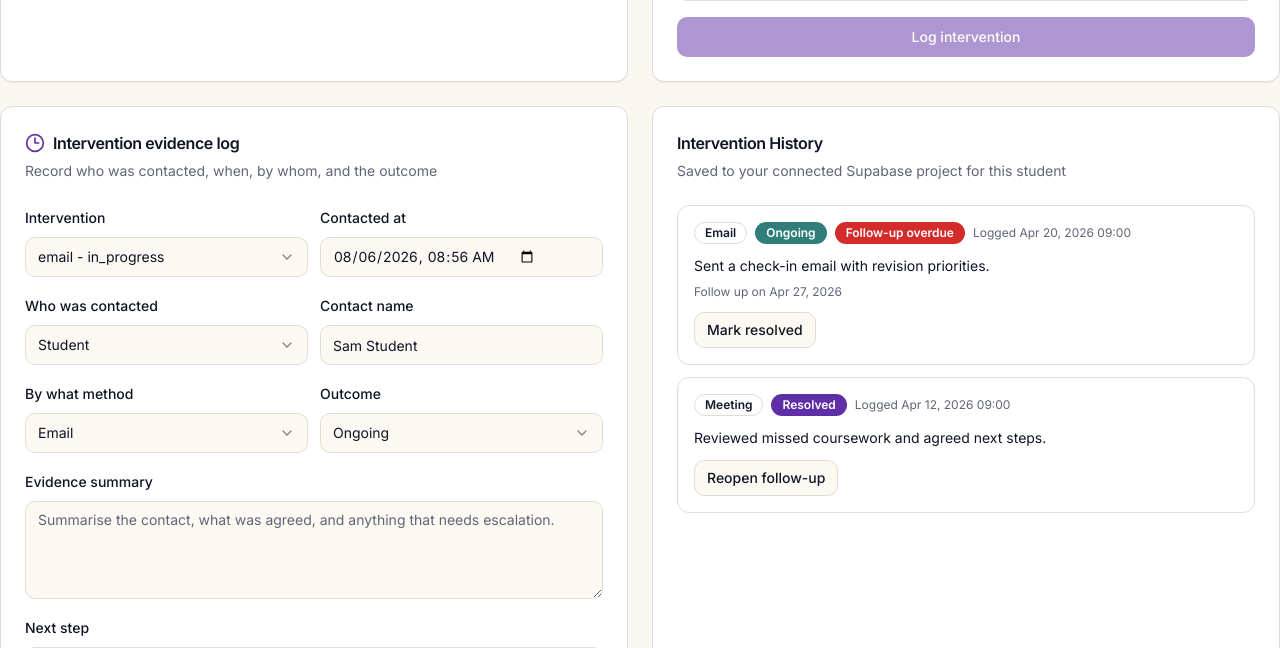
Test: StudentProfile › lets the lecturer resolve an open intervention from history
This screenshot has width=1280, height=648.
(page scrolled)
Click the button "Mark resolved".
click(755, 330)  # box [694,312,816,348]
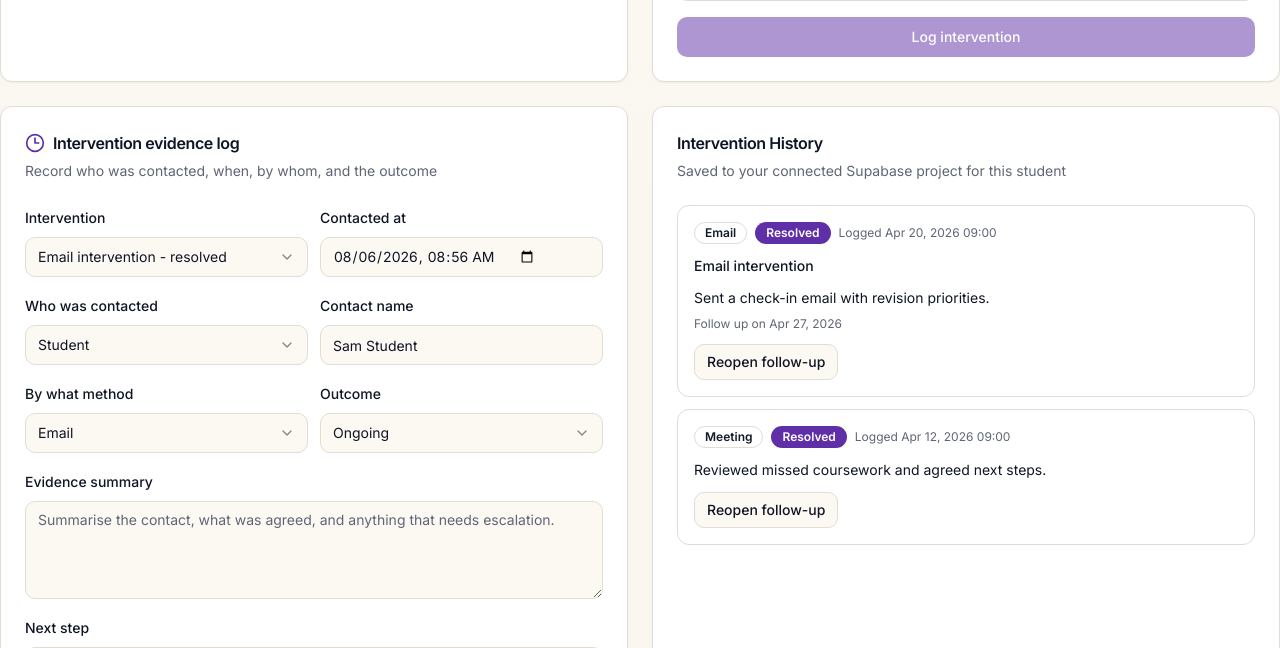
Now the text "Resolved" in the row of "Apr 20, 2026 09:00" is shown, box [766,225,820,240]
